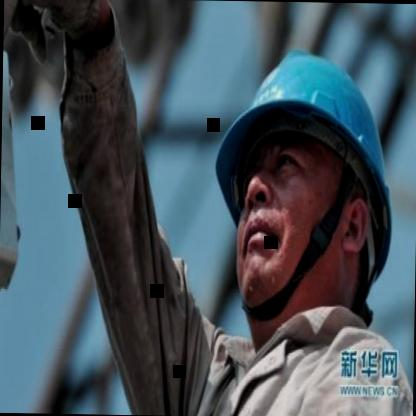helmet: (204, 20, 402, 352)
